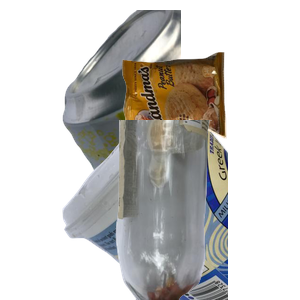glass: (113, 120, 300, 300)
metal: (60, 10, 300, 190)
plastic: (60, 120, 300, 300)
trash: (120, 50, 300, 182)
